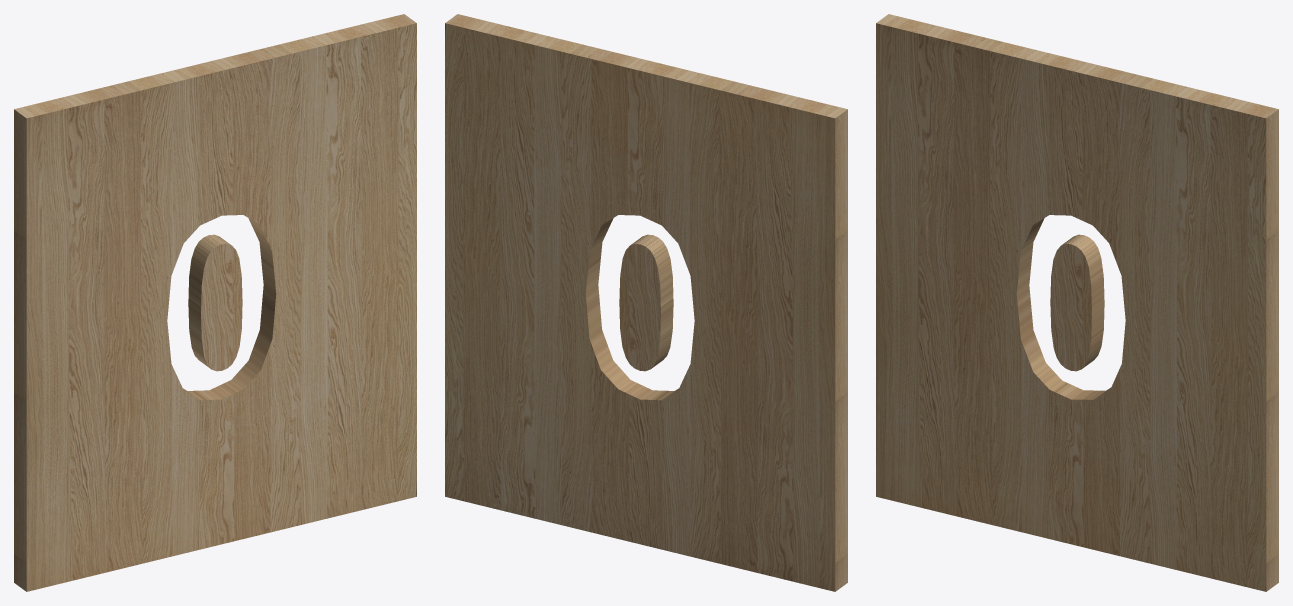
3 views of the same model, side by side, from view 1: azimuth 30°, elevation 25°; view 2: azimuth 150°, elevation 25°; view 3: azimuth 330°, elevation 25° (orthographic).
Parts seen in each view (by area): view 1: so0; view 2: so0; view 3: so0.
Boxes of the visible parts, <box> form: so0: <box>14,14,416,591</box>; so0: <box>445,14,847,591</box>; so0: <box>876,14,1278,591</box>.
Bounding box in the file's own units: 2.89 × 3.36 × 0.1618.
1 material, 1 textured.
